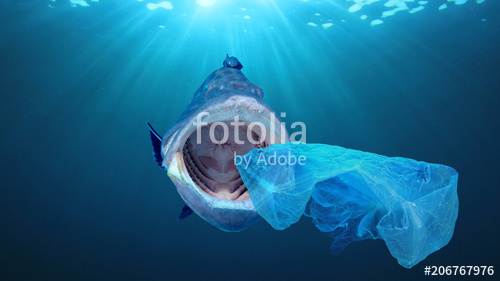fish: (135, 40, 319, 246)
litter: (233, 140, 467, 269)
